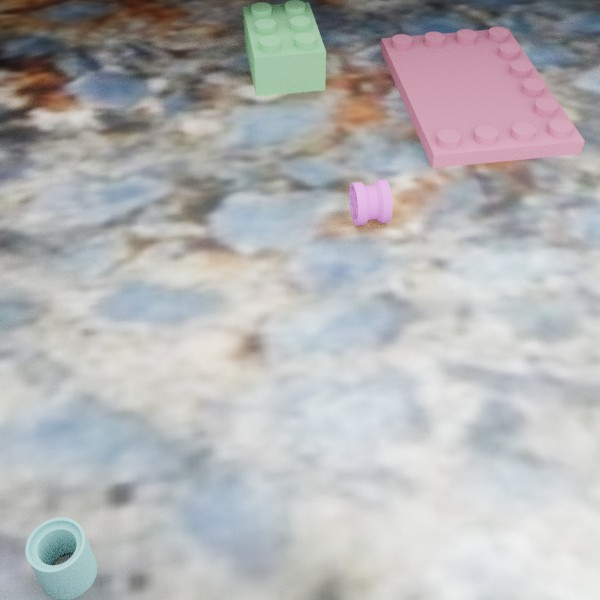lego: (380, 26, 584, 168), (243, 0, 326, 96), (25, 517, 97, 600), (349, 179, 392, 225)
